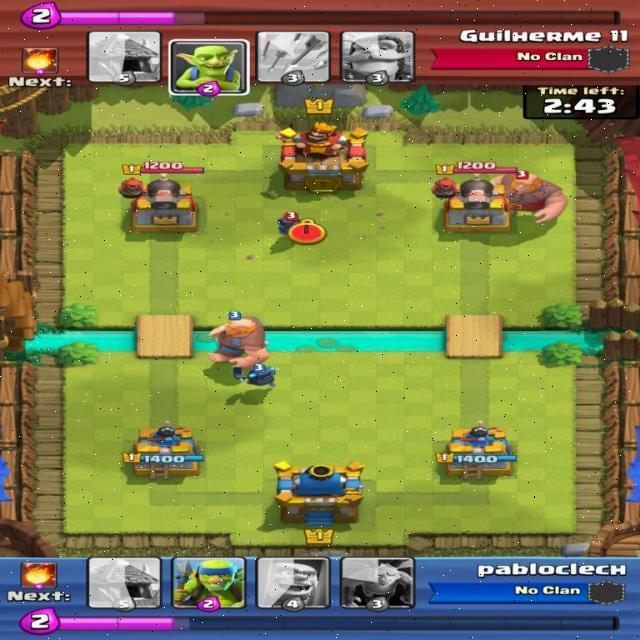ECannoneerTower: (447, 178, 511, 232), (131, 179, 193, 230)
EGiant: (492, 170, 568, 225)
EKingTower: (277, 129, 368, 184)
EMiniPeka: (272, 213, 299, 232)
OGiant: (202, 311, 273, 366)
OMiniPekka: (232, 366, 285, 397)
OwnKingTower: (277, 461, 366, 526)
OwnPrincessTower: (126, 422, 202, 478), (445, 423, 519, 475)
